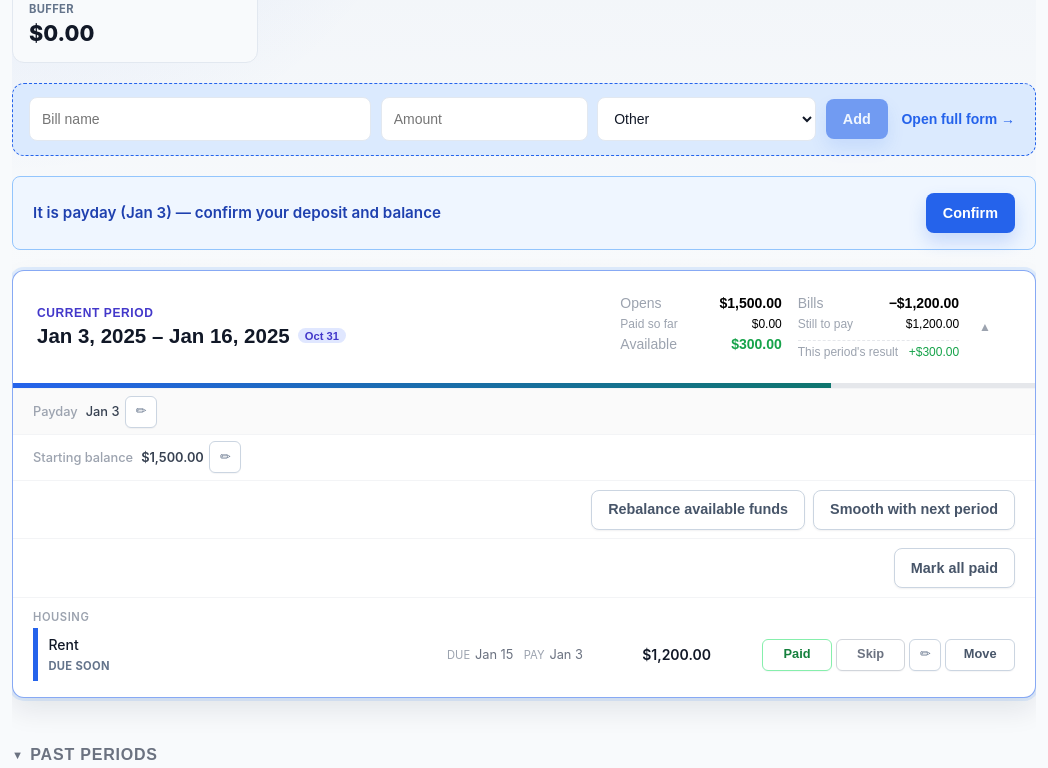
Dashboard — edit bill modal › shows an error toast when the bill fetch fails
(page scrolled)
Click the button named "edit bill rent": (925, 655) [909,639,941,671]
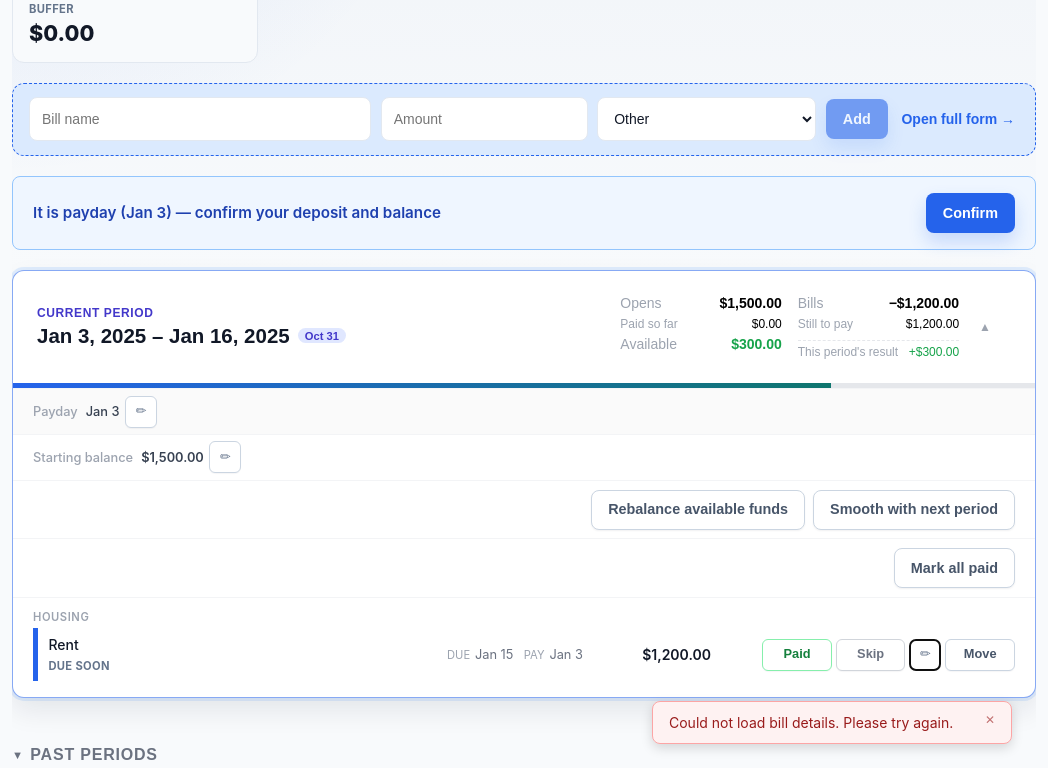
Check: the message shows "Could not load bill details", box [669,714,953,731]
